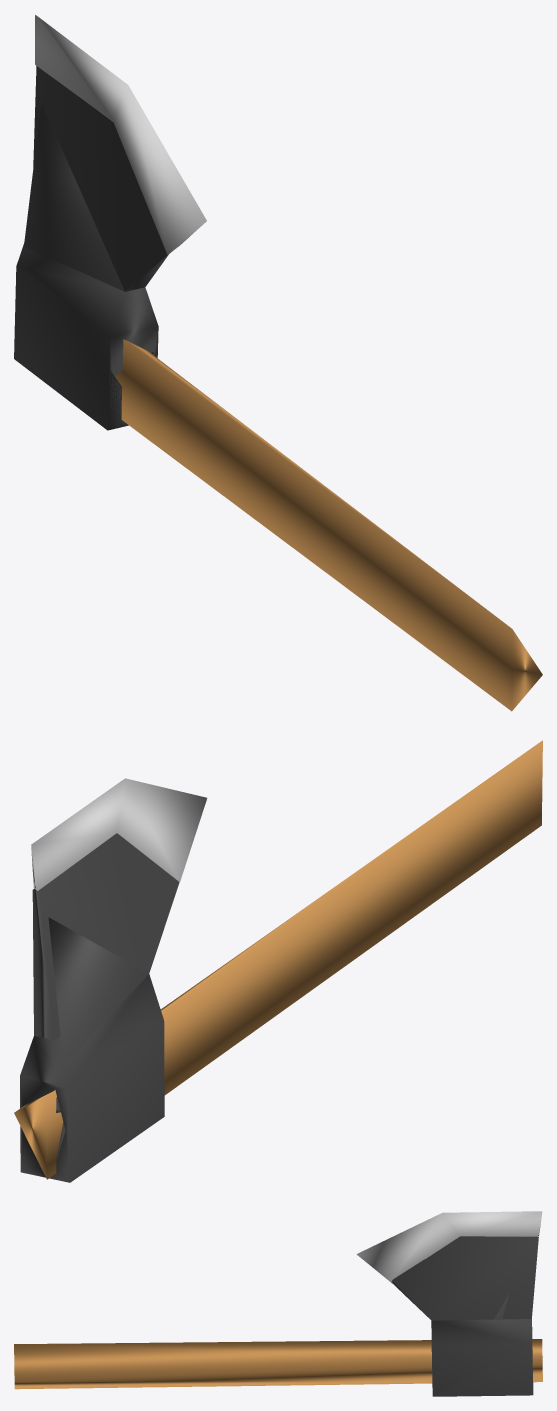
File: axe.fbx
3 renders of one model, top to bottom at view 1: azimuth 30°, elevation 25°; view 2: azimuth 150°, elevation 25°; view 3: azimuth 270°, elevation 25°, orthographic. The views are drawn at different scales.
Visible parts, largest first — view 1: Cube.001, Cylinder, Cube.000; view 2: Cube.001, Cylinder, Cube.000; view 3: Cube.001, Cylinder, Cube.000.
Boxes of the visible parts, bbox=[...] form: Cube.001: bbox=[14, 15, 206, 430]; Cylinder: bbox=[115, 339, 542, 711]; Cube.000: bbox=[24, 103, 156, 430]; Cube.001: bbox=[20, 778, 207, 1182]; Cylinder: bbox=[14, 740, 542, 1179]; Cube.000: bbox=[20, 917, 148, 1182]; Cube.001: bbox=[356, 1211, 542, 1396]; Cylinder: bbox=[14, 1339, 542, 1389]; Cube.000: bbox=[433, 1293, 533, 1396].
Size of the model in its own units: 0.1668 by 1.06 by 2.8.
